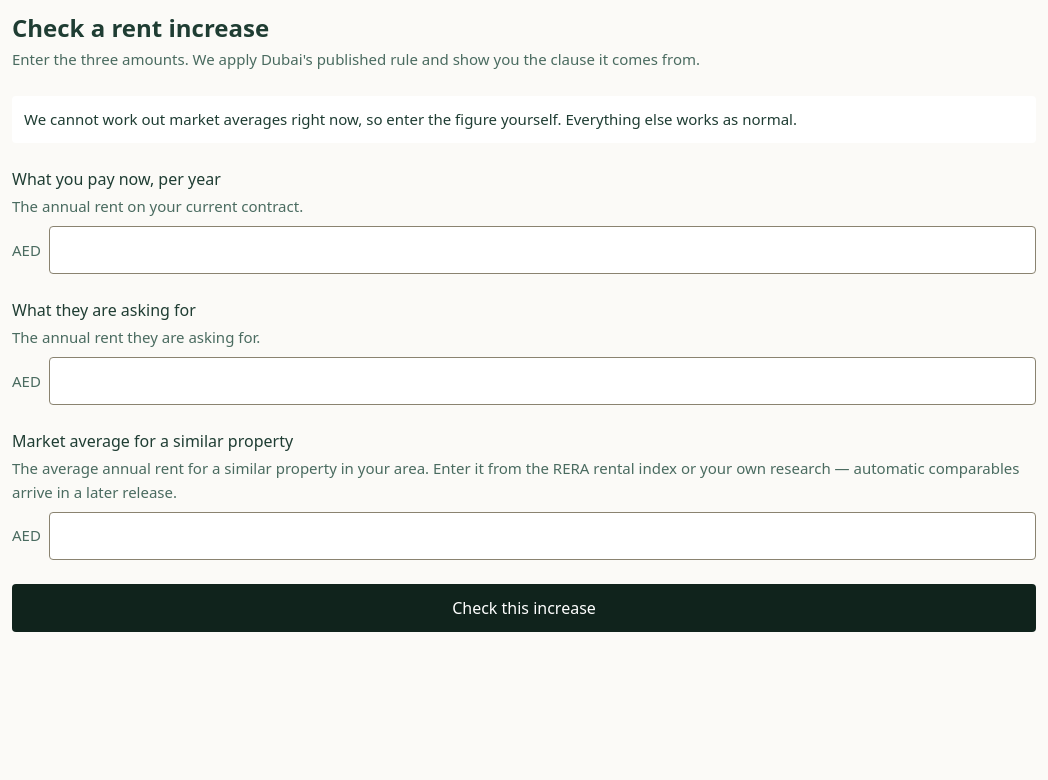
Test: Checker › case 3 — one dirham over the ceiling is not permitted
The image size is (1048, 780).
Type "80000" into the field labelled "What you pay now, per year" at (542, 250), box [49,226,1036,274]
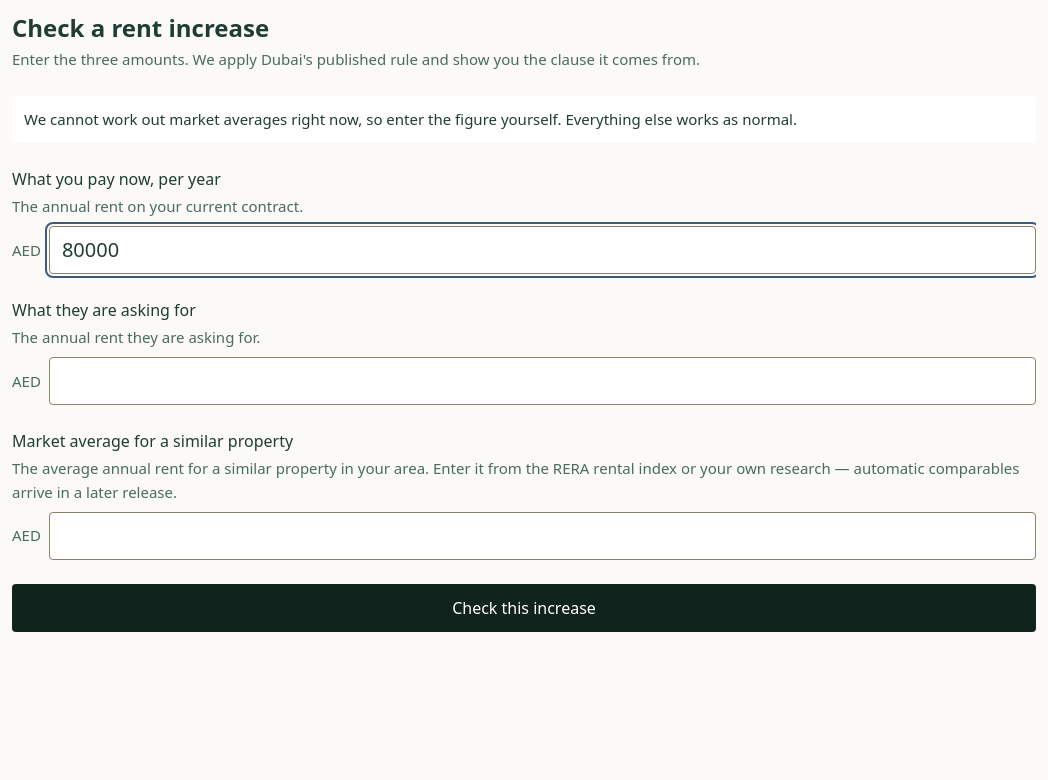
Type "88000.01" into the field labelled "What they are asking for" at (542, 381), box [49,357,1036,405]
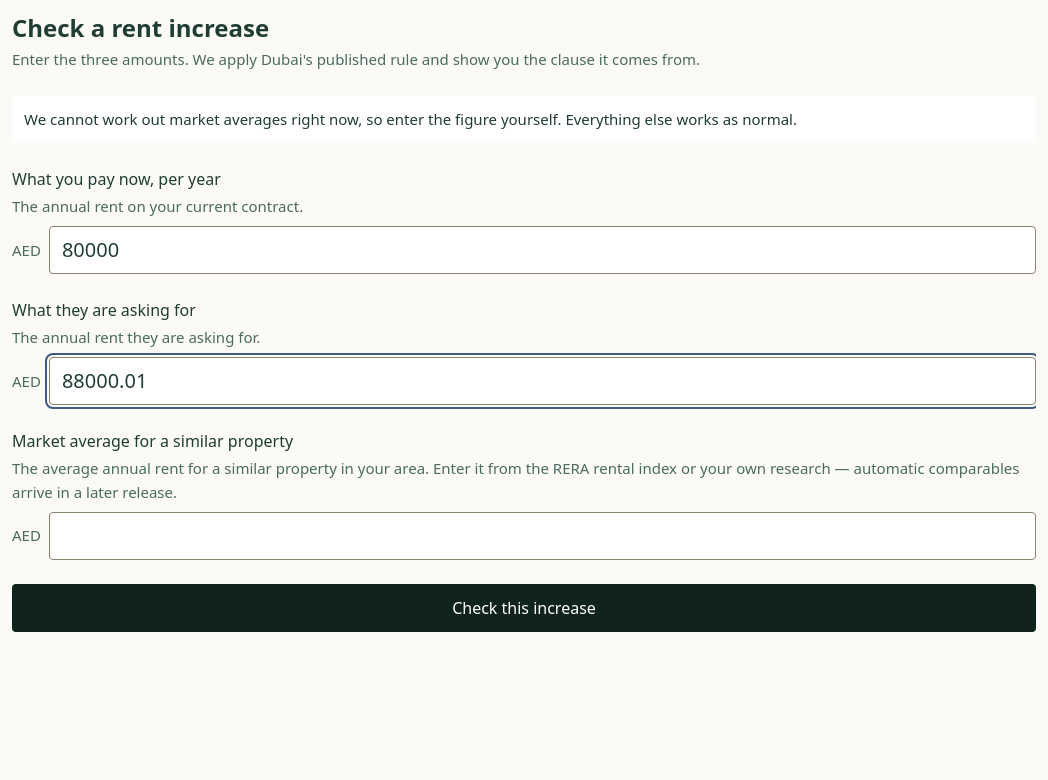
Type "106667" into the field labelled "Market average for a similar property" at (542, 536), box [49,512,1036,560]
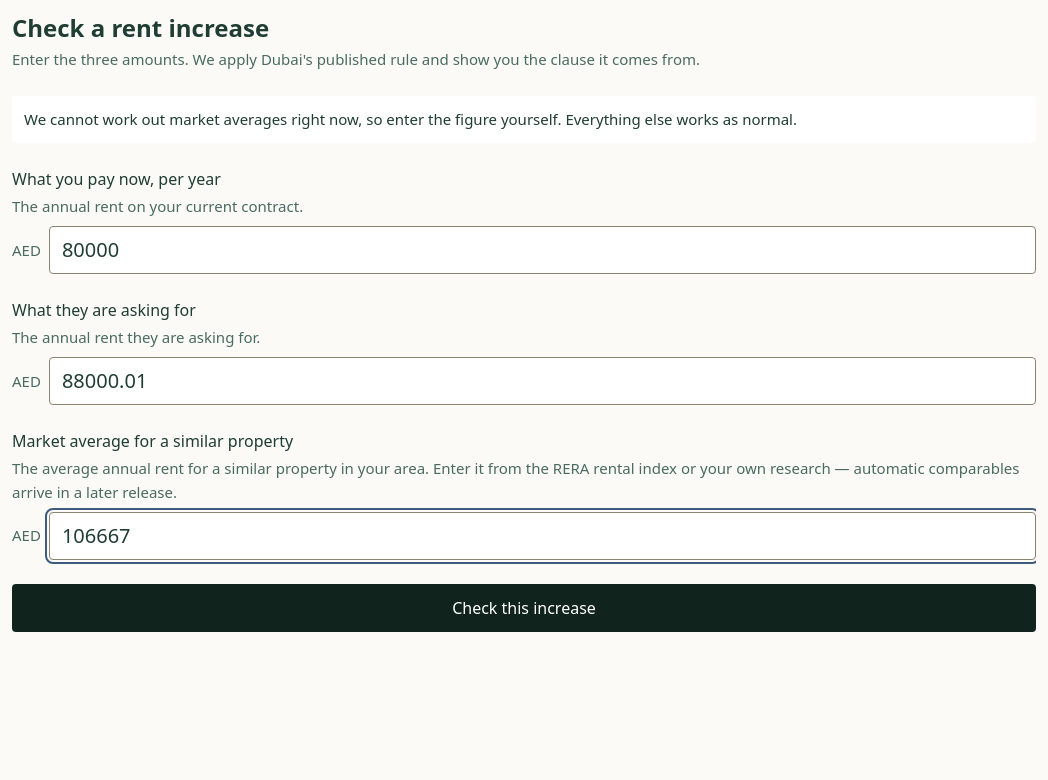
Click the button "Check this increase" at (524, 608), box [12,584,1036,632]
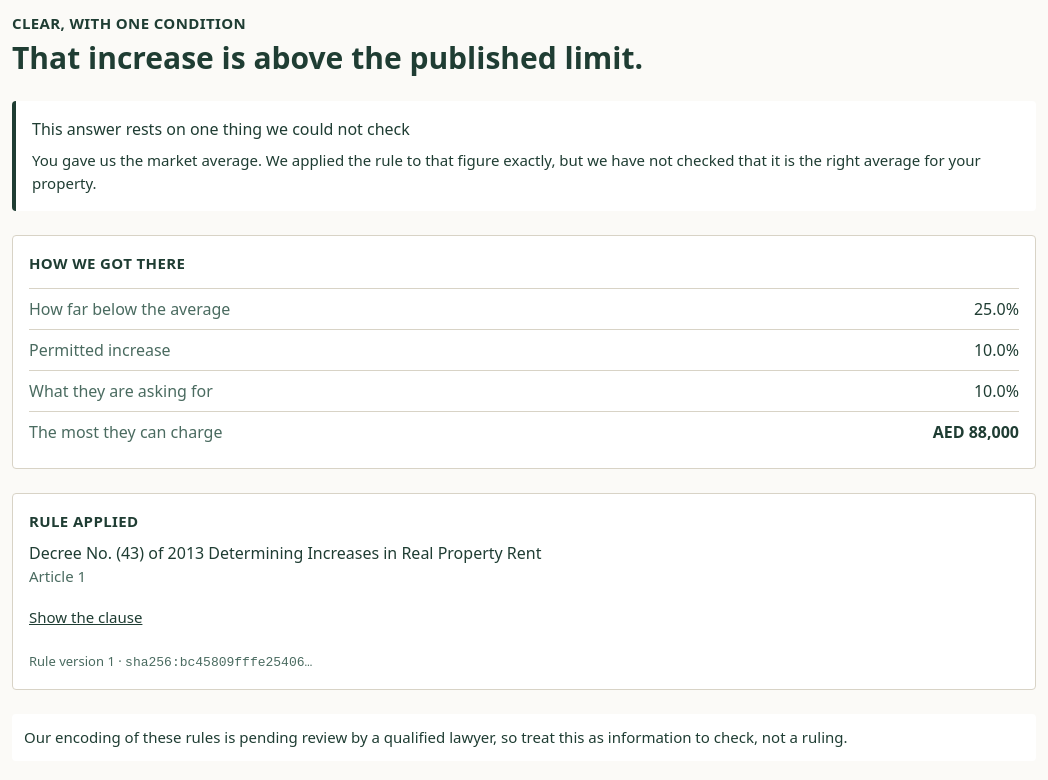
Now the heading "That increase is above the published limit." is shown, box [12,37,643,78]
